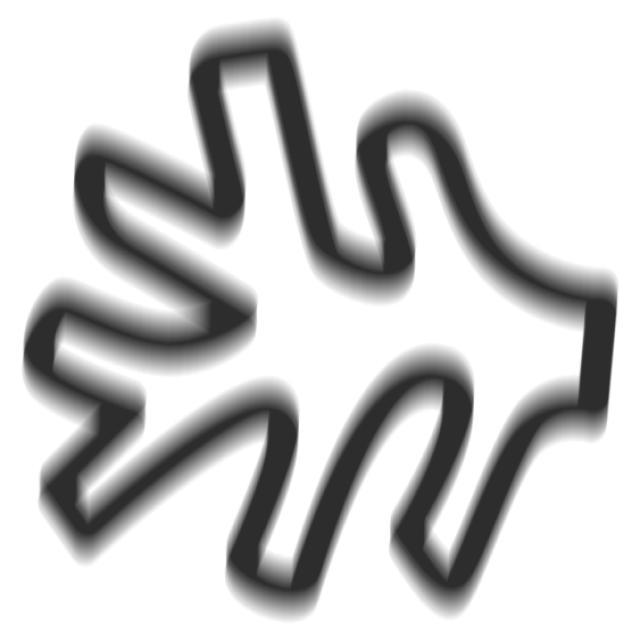coral: (13, 12, 628, 631)
